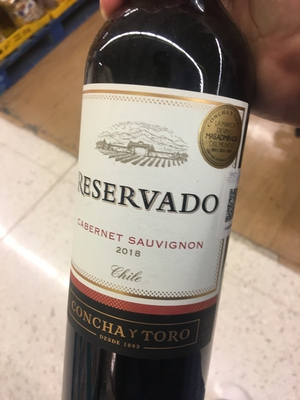reservado cabernet sauvignon: (59, 4, 248, 399)
